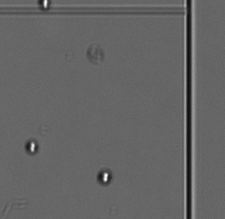Dead Cell: (84, 41, 105, 64)
Living Cell: (94, 167, 115, 186), (23, 138, 39, 154), (36, 1, 53, 10)
